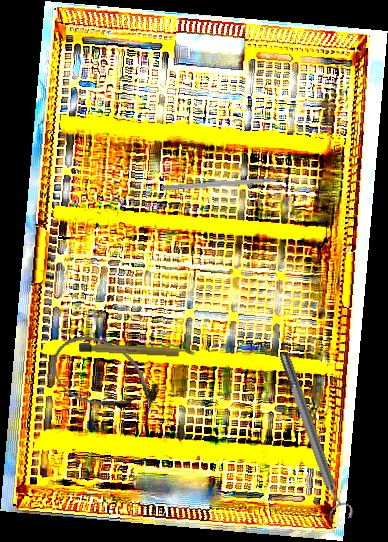Cannula: (41, 323, 170, 431)
Chopper: (162, 176, 295, 198)
Fixation Ring: (272, 349, 356, 526)
Scalpel Handle: (78, 342, 197, 359)
